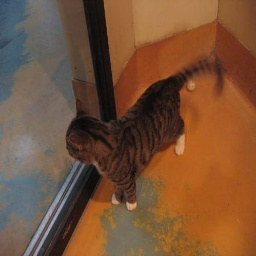cat: (64, 59, 197, 212)
